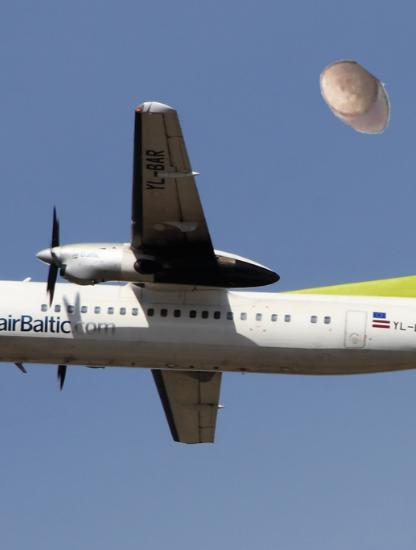Hazelnut: (312, 55, 400, 143)
